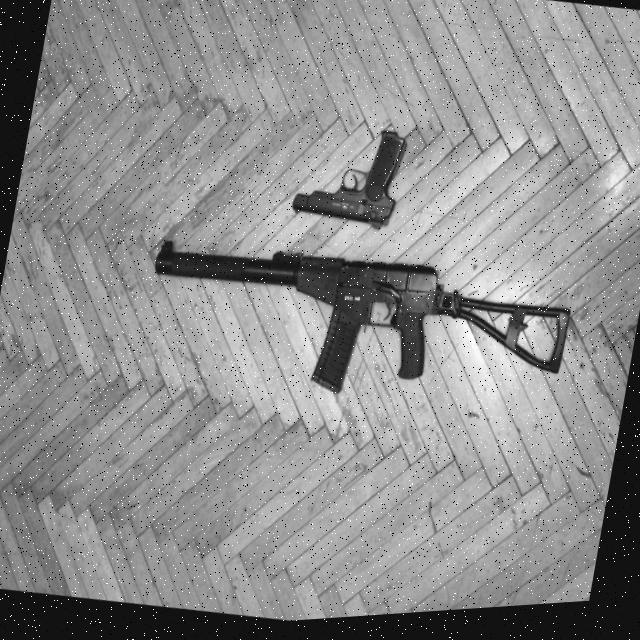firearm: (135, 214, 574, 444)
pistol: (288, 116, 408, 241)
